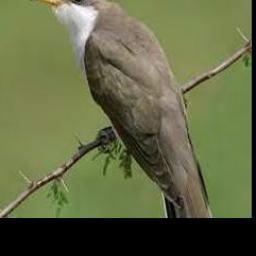Cuckoo: (31, 0, 214, 218)
